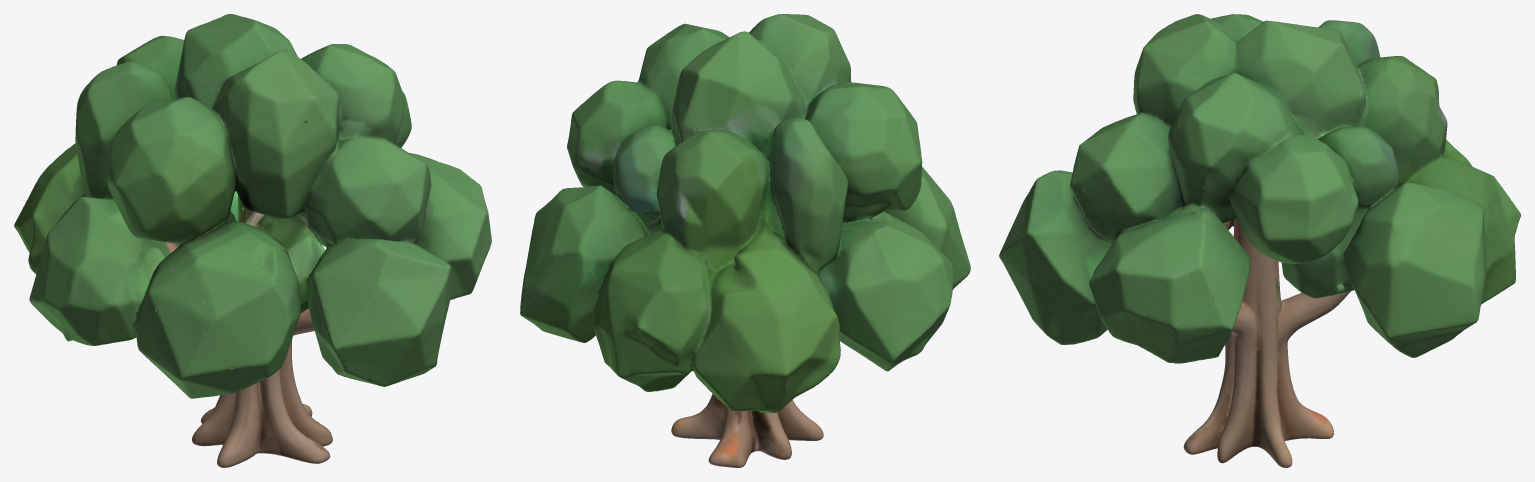
File: tree2.glb
3 views of the same model, side by side, from view 1: azimuth 30°, elevation 25°; view 2: azimuth 150°, elevation 25°; view 3: azimuth 270°, elevation 25° (orthographic).
Visible parts, largest first — view 1: SM_OakTree_Style-02_02_High; view 2: SM_OakTree_Style-02_02_High; view 3: SM_OakTree_Style-02_02_High.
Boxes of the visible parts, left/top/right/bottom form: SM_OakTree_Style-02_02_High: left=14, top=14, right=491, bottom=467; SM_OakTree_Style-02_02_High: left=520, top=14, right=970, bottom=467; SM_OakTree_Style-02_02_High: left=999, top=14, right=1520, bottom=467.
Bounding box in the file's own units: 0.8788 × 0.8967 × 1.01.
1 material, 1 textured.
